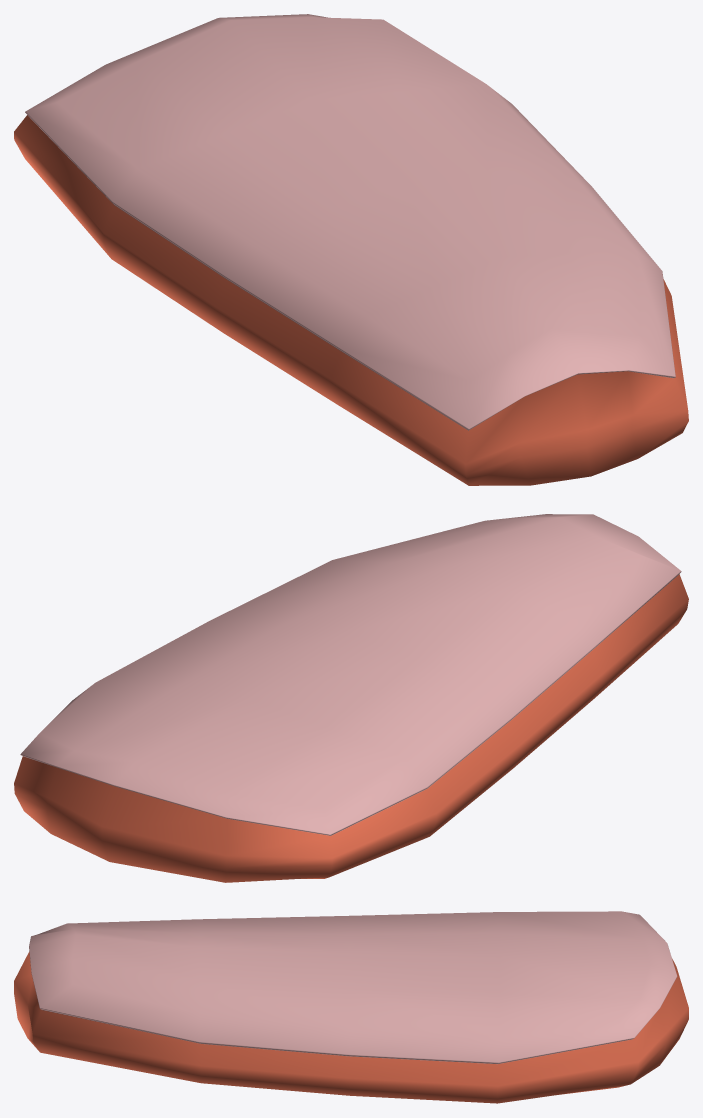
The model's file is Salmon.fbx.
The picture shows the model from 3 angles, top to bottom: view 1: azimuth 30°, elevation 25°; view 2: azimuth 150°, elevation 25°; view 3: azimuth 270°, elevation 25°; orthographic projection. The views are drawn at different scales.
Visible parts, largest first — view 1: Salmon; view 2: Salmon; view 3: Salmon.
Boxes of the visible parts, bbox=[...] form: Salmon: bbox=[14, 14, 688, 485]; Salmon: bbox=[14, 514, 688, 882]; Salmon: bbox=[14, 911, 688, 1103].
Size of the model in its own units: 7.97 by 2.46 by 15.46.
